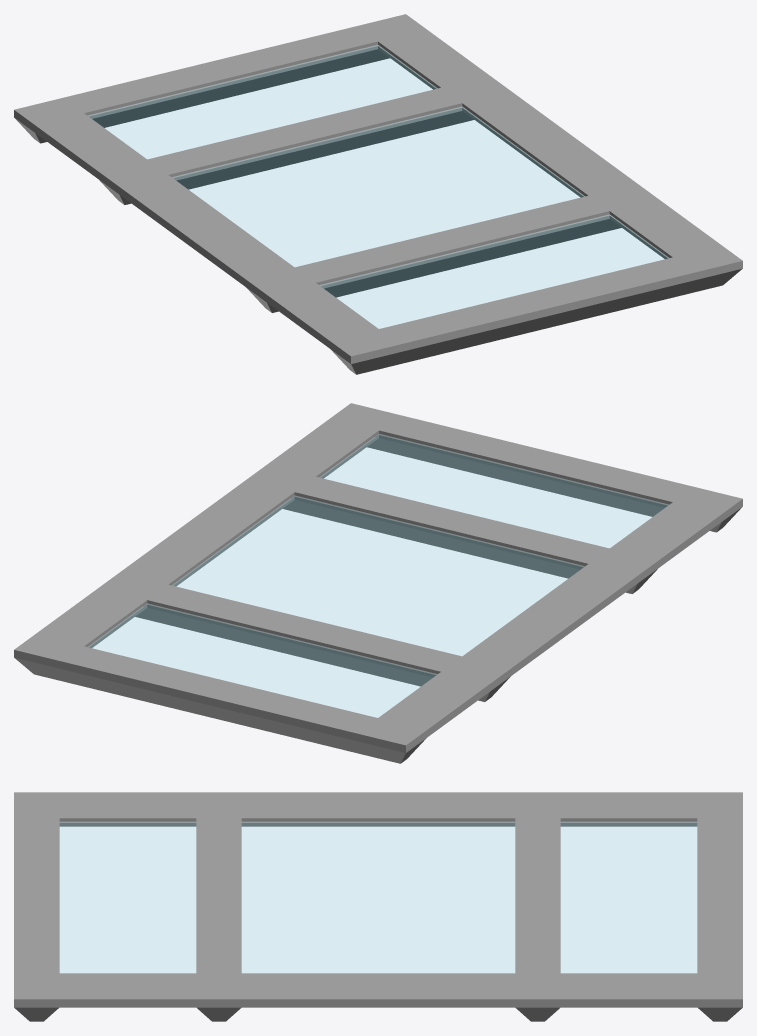
The model's file is Glassroof.fbx.
3 views of the same model, one above another, from view 1: azimuth 30°, elevation 25°; view 2: azimuth 150°, elevation 25°; view 3: azimuth 270°, elevation 25° (orthographic). The views are drawn at different scales.
Parts seen in each view (by area): view 1: pCube1; view 2: pCube1; view 3: pCube1.
Boxes of the visible parts, x1=… form: pCube1: x1=14, y1=14, x2=742, y2=374; pCube1: x1=14, y1=403, x2=742, y2=763; pCube1: x1=14, y1=792, x2=742, y2=1021.
Bounding box in the file's own units: 27.86 × 1.83 × 41.5.
